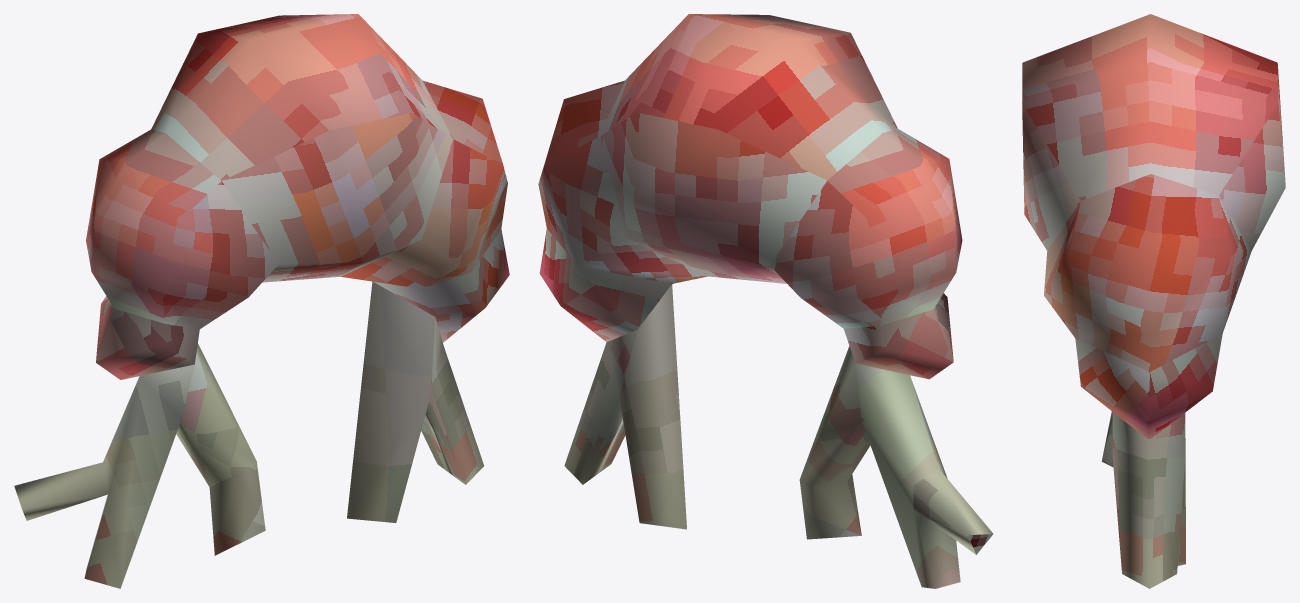
Rendered from eqp_organ_rancor_heart_l2.fbx.
The picture shows the model from 3 angles, left to right: view 1: azimuth 30°, elevation 25°; view 2: azimuth 150°, elevation 25°; view 3: azimuth 270°, elevation 25°; orthographic projection. The views are drawn at different scales.
Visible parts, largest first — view 1: mesh_node; view 2: mesh_node; view 3: mesh_node.
Boxes of the visible parts, x1,y1,x2,y2 form: mesh_node: (14,14,509,588); mesh_node: (538,14,993,588); mesh_node: (1022,14,1285,588).
Size of the model in its own units: 0.2464 by 0.2566 by 0.1239.
Materials: 1 (1 with a texture image).
